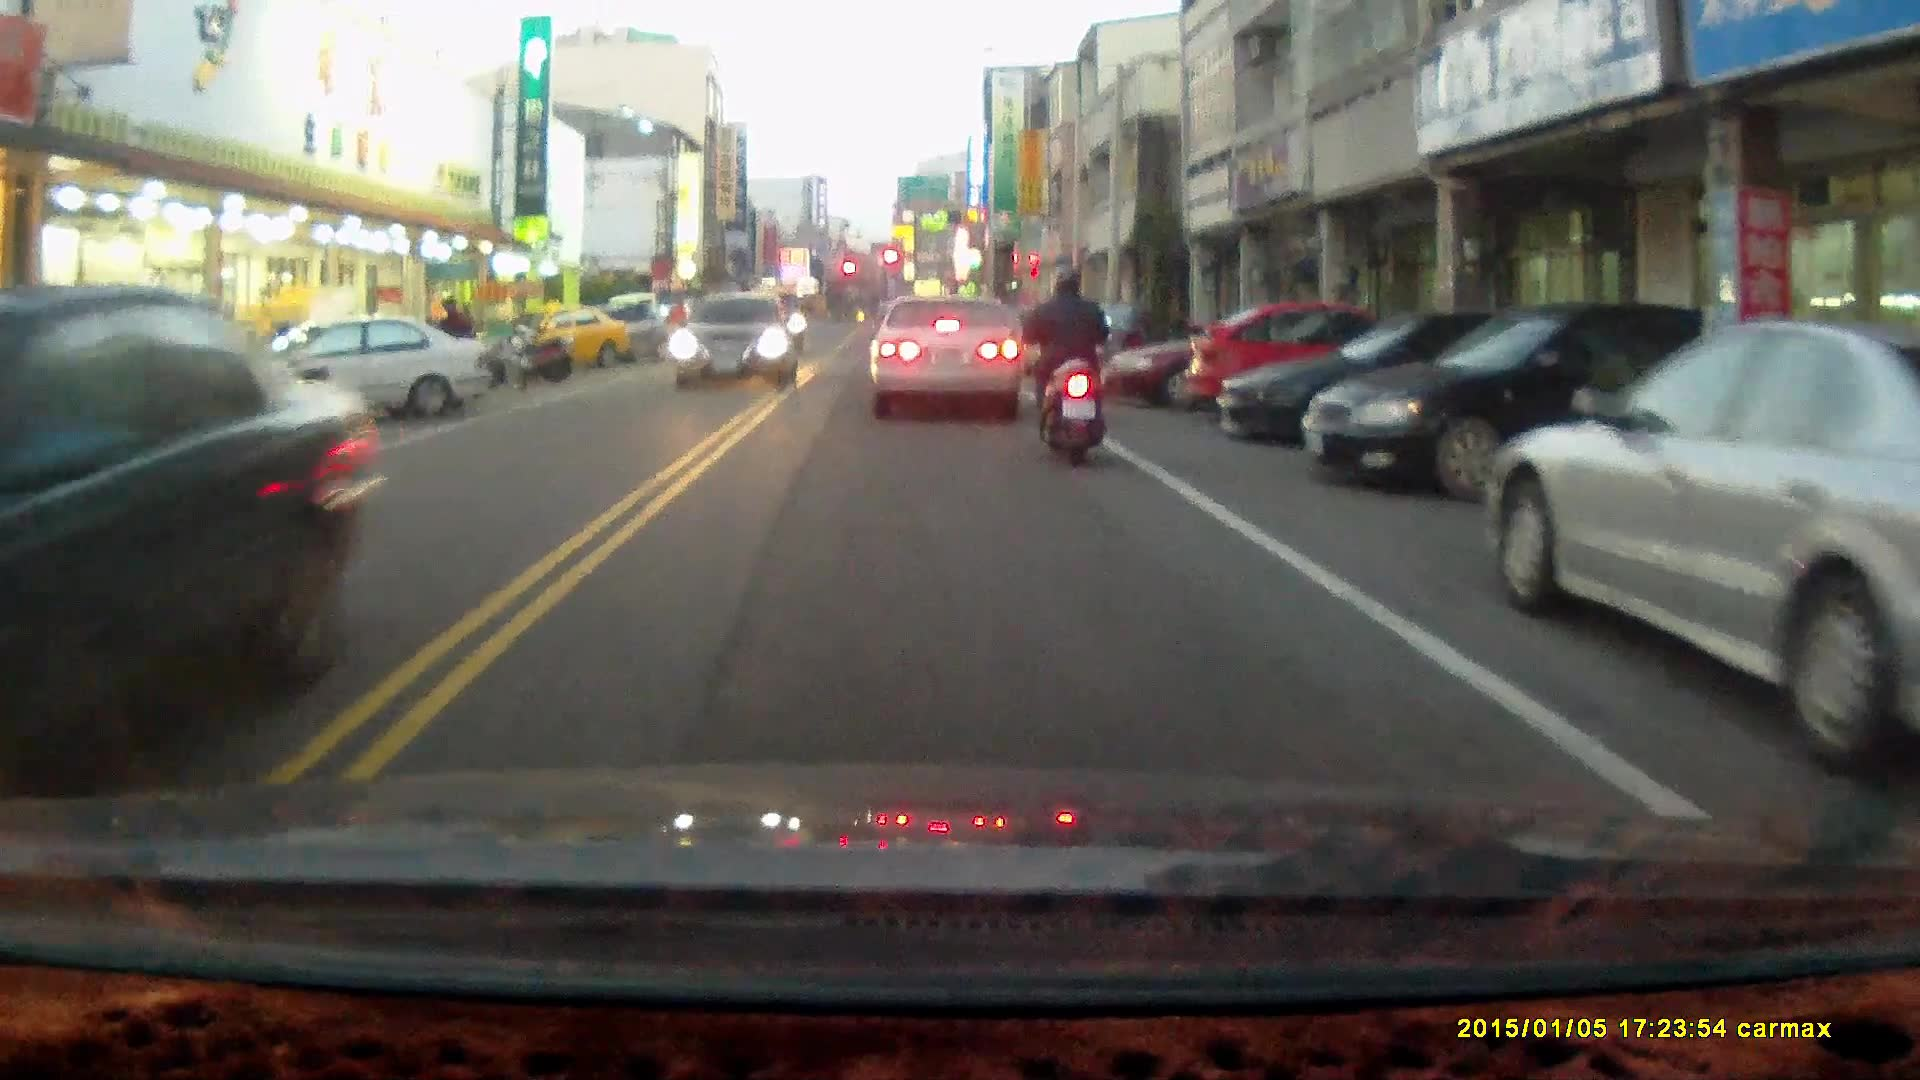pedestrian: (436, 294, 471, 371)
rider: (1021, 262, 1114, 468), (660, 295, 694, 367)
vehicle: (1, 282, 385, 799), (1489, 320, 1920, 779), (1301, 303, 1713, 504), (1216, 308, 1603, 454), (231, 305, 488, 427), (1182, 302, 1428, 427), (1104, 305, 1403, 406), (869, 292, 1025, 419), (675, 289, 802, 392), (516, 298, 637, 372)
